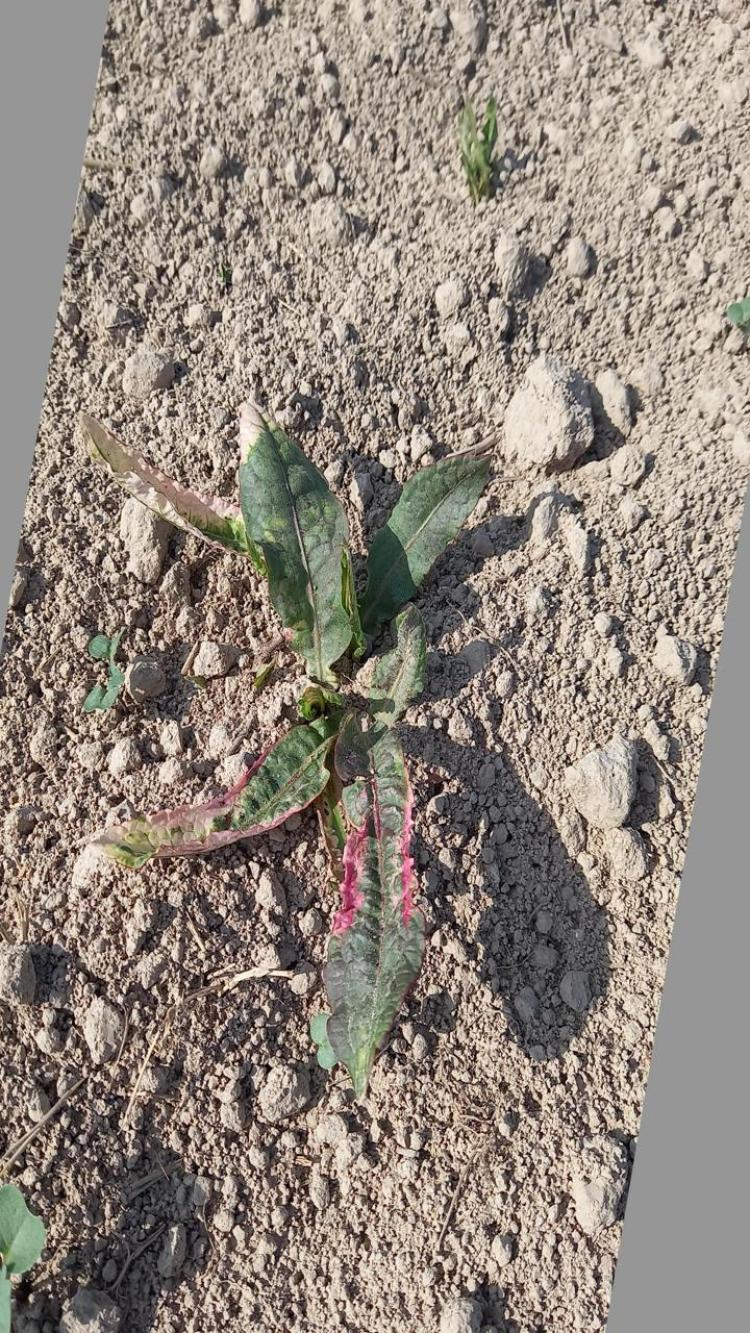zhavel: (77, 384, 492, 1092)
